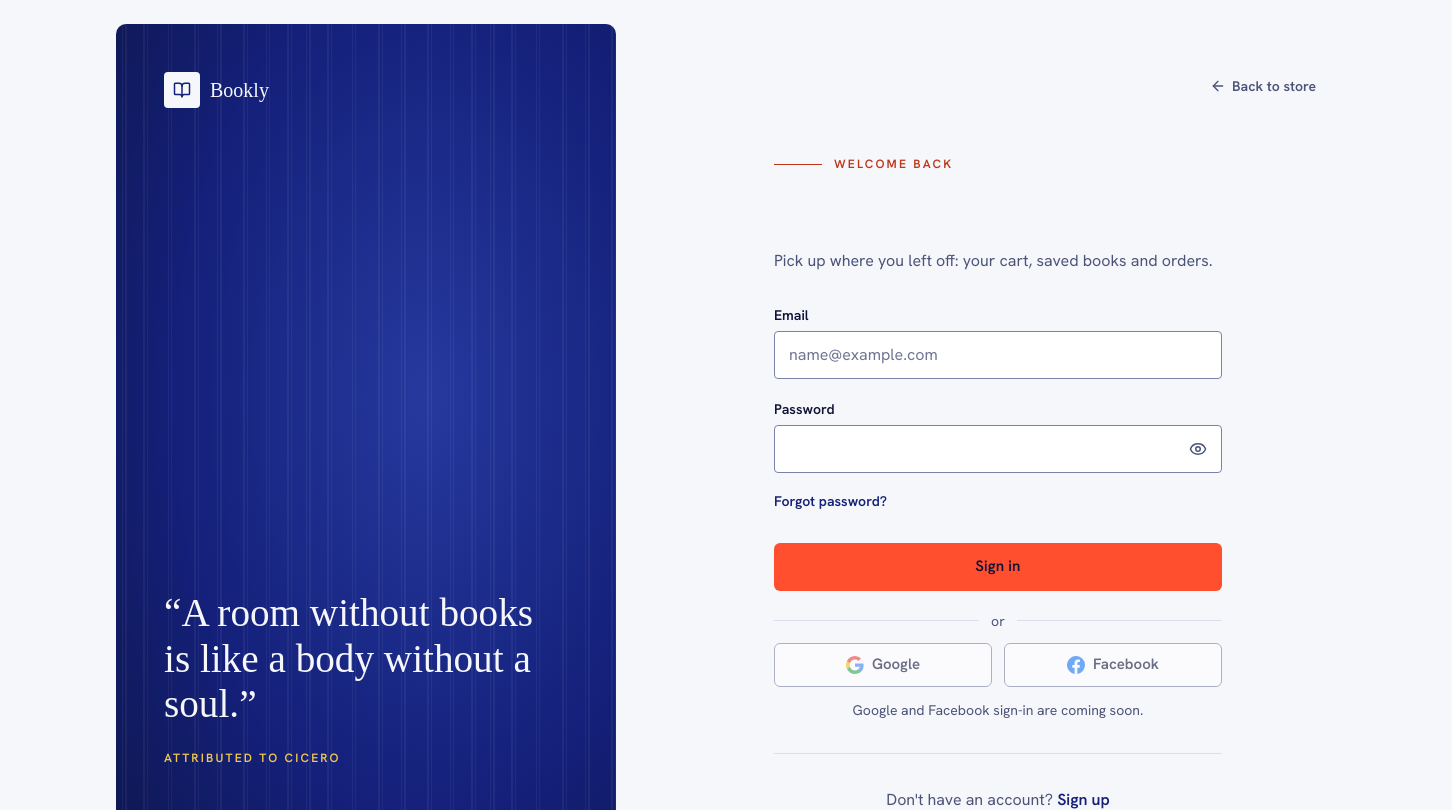
Test: LoginPage › sends unverified customers to email verification, keeping next
Type "dara@example.com" into the field labelled "Email" at [998, 355], box [774, 331, 1222, 379]
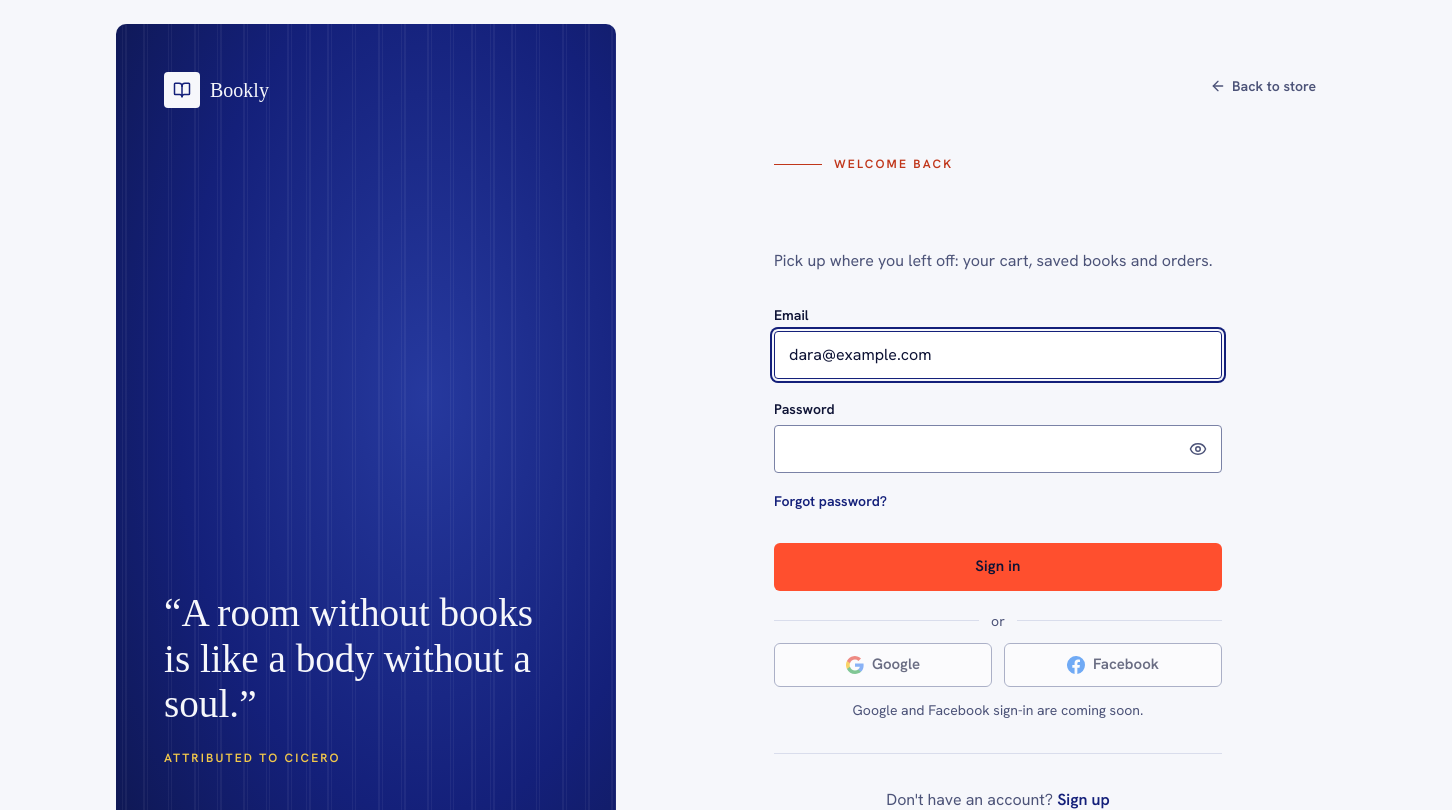
Type "reading123" into the password field labelled "Password" at [998, 449], box [774, 425, 1222, 473]
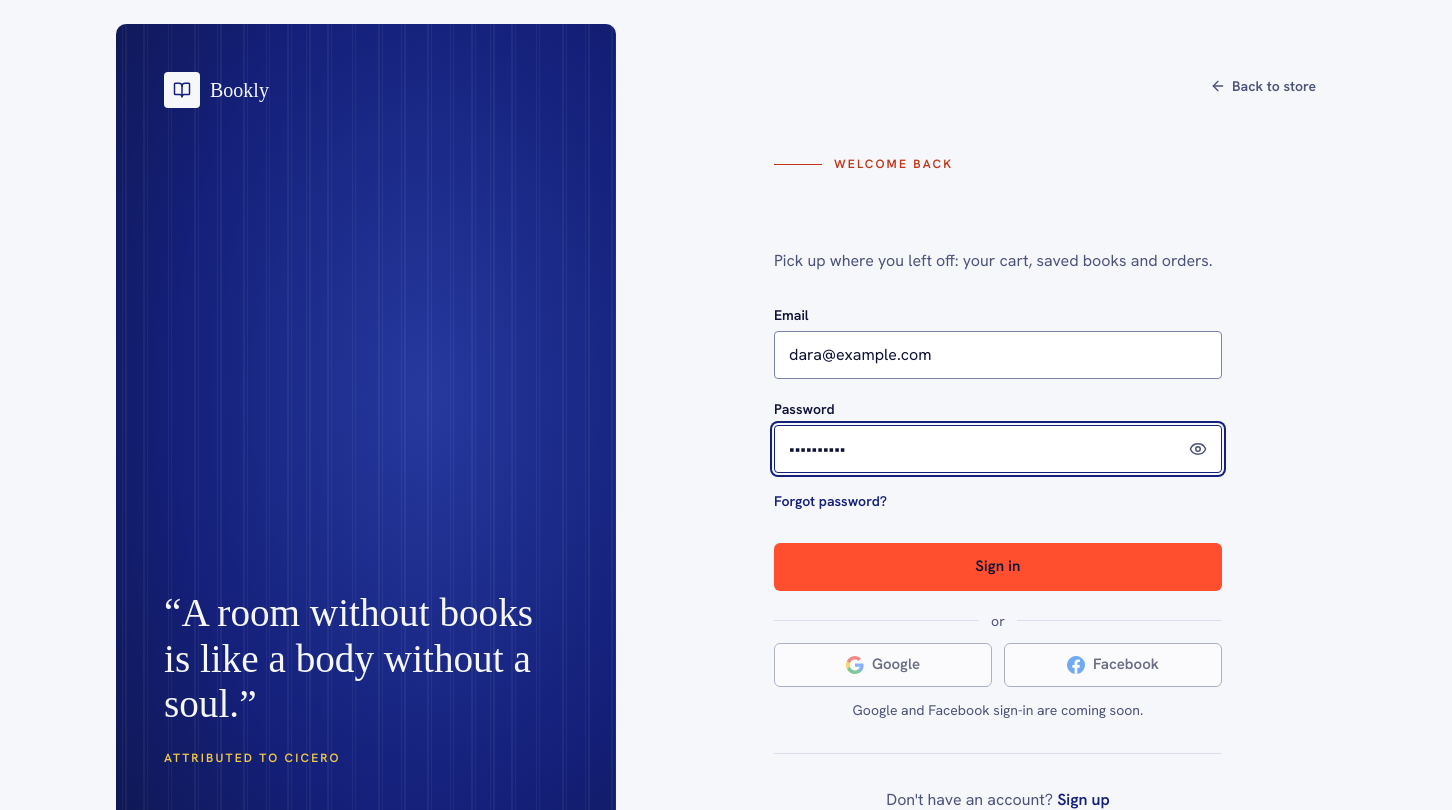
Click the button "Sign in" at [998, 567], box [774, 543, 1222, 591]
(page scrolled)
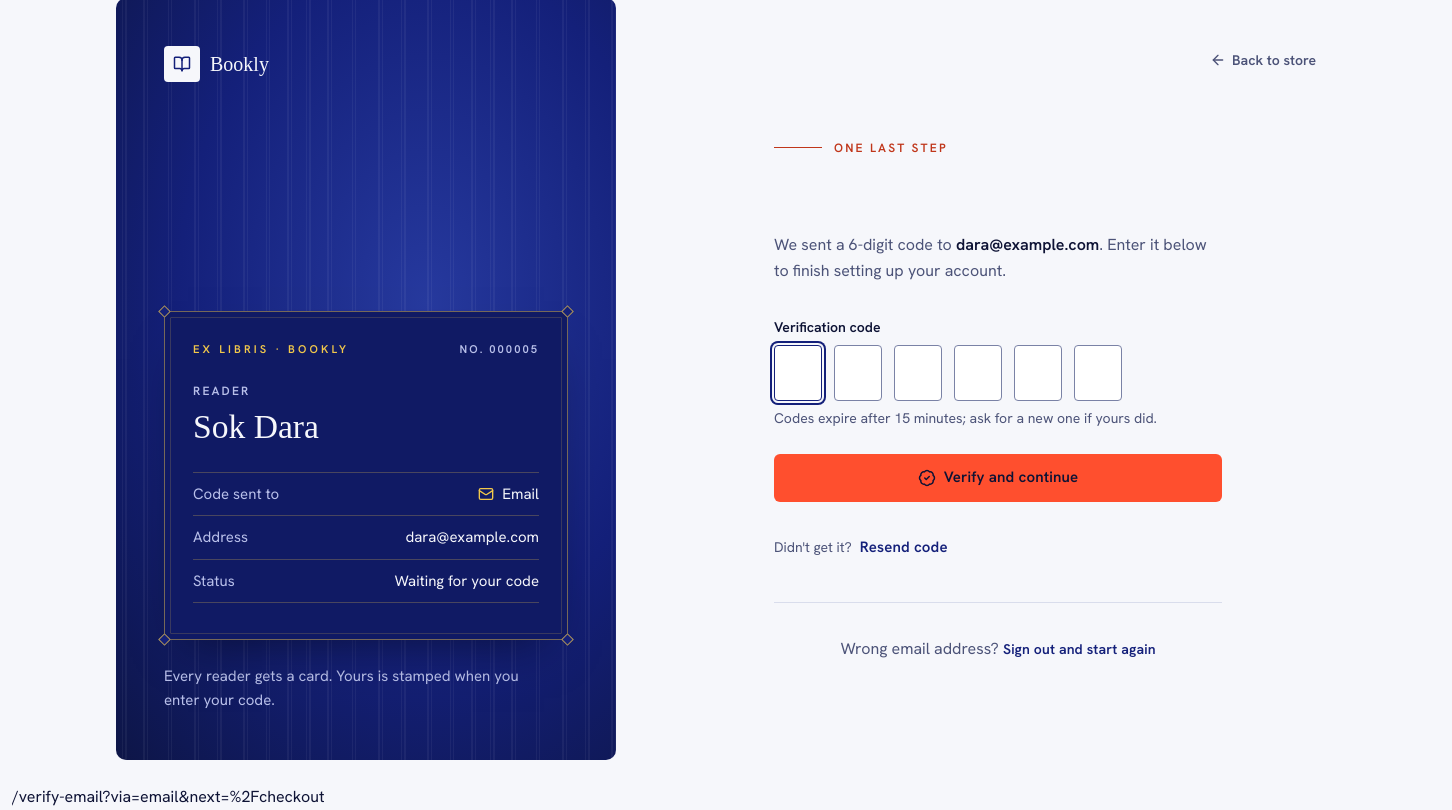
Expected: the text with test id "where" reads "/verify-email?via=email&next=%2Fcheckout", [12, 786, 324, 807]
